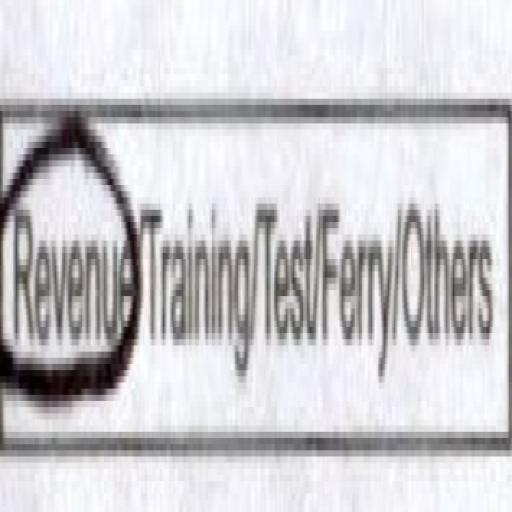check: (0, 21, 139, 512)
